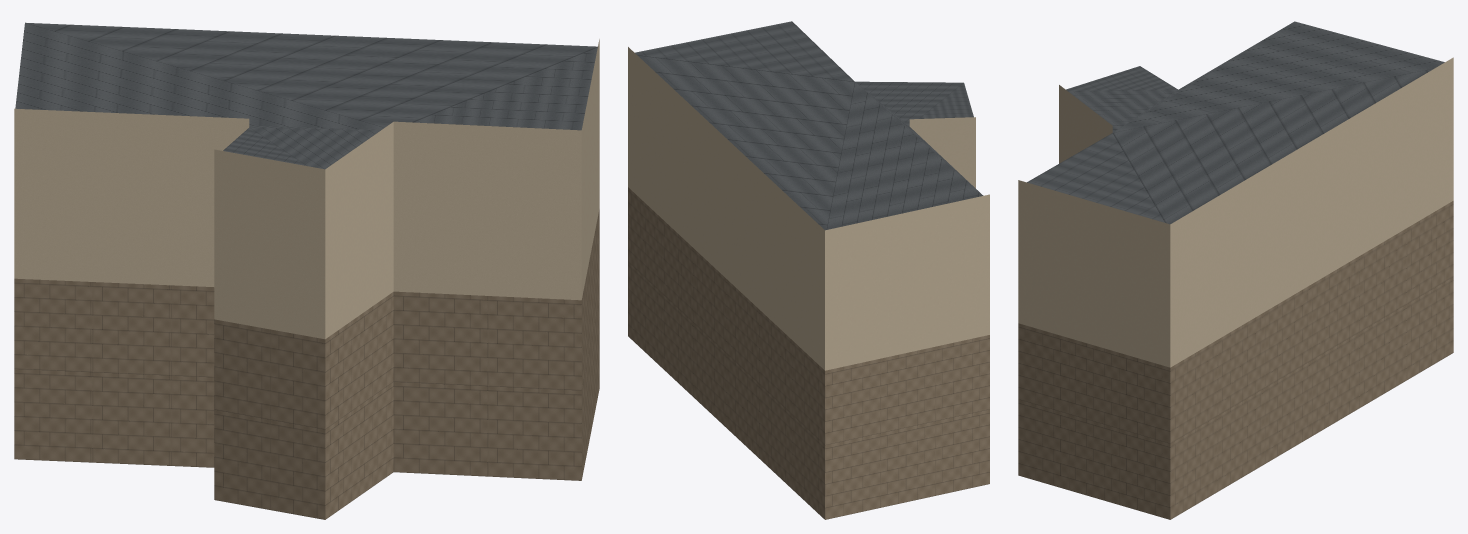
The model's file is core_0045.gltf.
3 renders of one model, left to right at view 1: azimuth 30°, elevation 25°; view 2: azimuth 150°, elevation 25°; view 3: azimuth 270°, elevation 25°, orthographic. The views are drawn at different scales.
Parts seen in each view (by area): view 1: core_0045; view 2: core_0045; view 3: core_0045.
Boxes of the visible parts, bbox=[...] form: core_0045: bbox=[14, 22, 599, 519]; core_0045: bbox=[628, 21, 989, 519]; core_0045: bbox=[1018, 21, 1453, 519].
Size of the model in its own units: 14.63 by 9.58 by 12.8.
3 materials, 3 textured.
